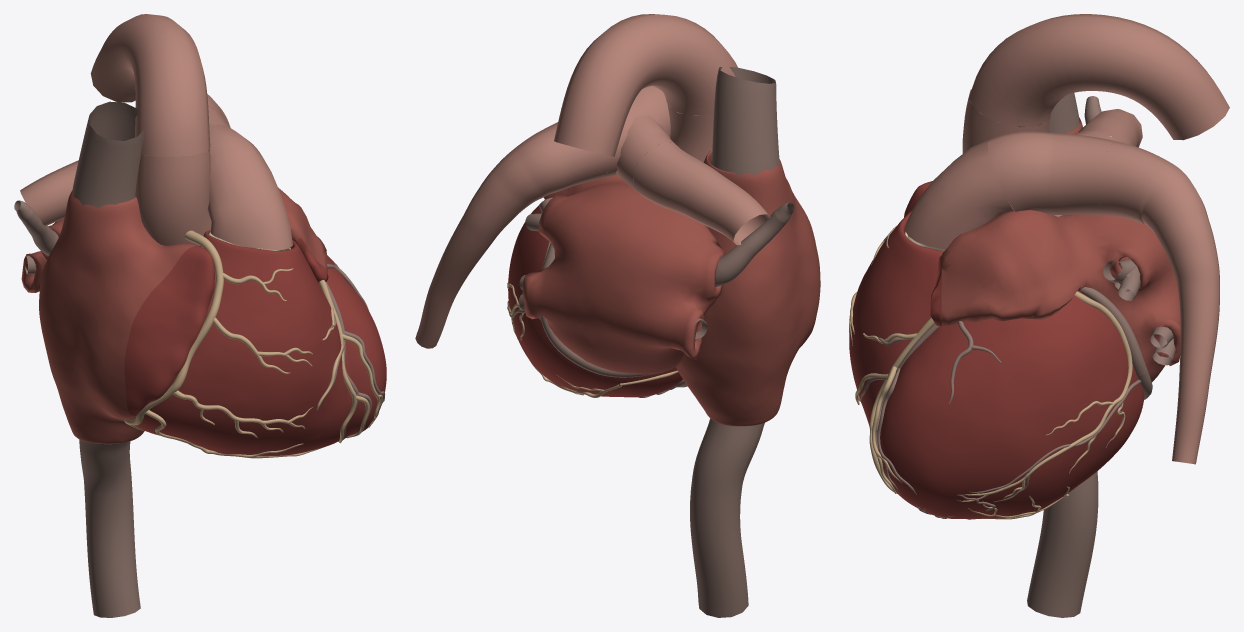
The model's file is heart-detail.glb.
3 renders of one model, left to right at view 1: azimuth 30°, elevation 25°; view 2: azimuth 150°, elevation 25°; view 3: azimuth 270°, elevation 25°, orthographic. The views are drawn at different scales.
Visible parts, largest first — view 1: heart, atrium_r, aorta, vena_cava_inferior, pulmonary_trunk, vena_cava_superior, coronary_r, atrium_l, pulmonary_artery_r, coronary_lad, pulmonary_vein_r, cardiac_vein_great; view 2: atrium_l, atrium_r, aorta, pulmonary_artery_l, vena_cava_inferior, pulmonary_artery_r, vena_cava_superior, ventricle_l, pulmonary_trunk, pulmonary_vein_r, coronary_sinus; view 3: ventricle_l, atrium_l, aorta, heart, pulmonary_artery_l, pulmonary_trunk, vena_cava_inferior, cardiac_vein_great, coronary_circumflex, coronary_lad, pulmonary_vein_l, pulmonary_artery_r (+2 smaller).
Boxes of the visible parts, x1=… form: heart: x1=124, y1=238, x2=386, y2=456; atrium_r: x1=39, y1=190, x2=198, y2=444; aorta: x1=90, y1=14, x2=211, y2=245; vena_cava_inferior: x1=79, y1=439, x2=140, y2=617; pulmonary_trunk: x1=198, y1=106, x2=292, y2=249; vena_cava_superior: x1=72, y1=101, x2=144, y2=207; coronary_r: x1=124, y1=230, x2=324, y2=458; atrium_l: x1=21, y1=187, x2=327, y2=292; pulmonary_artery_r: x1=20, y1=160, x2=78, y2=225; coronary_lad: x1=316, y1=280, x2=382, y2=443; pulmonary_vein_r: x1=14, y1=200, x2=58, y2=276; cardiac_vein_great: x1=319, y1=263, x2=385, y2=439; atrium_l: x1=522, y1=174, x2=724, y2=374; atrium_r: x1=676, y1=150, x2=820, y2=426; aorta: x1=554, y1=14, x2=737, y2=162; pulmonary_artery_l: x1=415, y1=122, x2=611, y2=348; vena_cava_inferior: x1=690, y1=418, x2=764, y2=617; pulmonary_artery_r: x1=633, y1=142, x2=770, y2=245; vena_cava_superior: x1=711, y1=66, x2=779, y2=176; ventricle_l: x1=508, y1=200, x2=682, y2=397; pulmonary_trunk: x1=600, y1=85, x2=697, y2=190; pulmonary_vein_r: x1=693, y1=202, x2=794, y2=338; coronary_sinus: x1=540, y1=316, x2=651, y2=377; ventricle_l: x1=941, y1=291, x2=1144, y2=518; atrium_l: x1=941, y1=209, x2=1180, y2=381; aorta: x1=962, y1=14, x2=1229, y2=216; heart: x1=849, y1=181, x2=941, y2=516; pulmonary_artery_l: x1=1098, y1=141, x2=1219, y2=464; pulmonary_trunk: x1=904, y1=130, x2=1116, y2=249; vena_cava_inferior: x1=1027, y1=471, x2=1098, y2=617; cardiac_vein_great: x1=860, y1=287, x2=1146, y2=495; coronary_circumflex: x1=957, y1=291, x2=1132, y2=501; coronary_lad: x1=855, y1=317, x2=934, y2=493; pulmonary_vein_l: x1=1103, y1=259, x2=1175, y2=365; pulmonary_artery_r: x1=1078, y1=109, x2=1142, y2=147.
Bounding box in the file's own units: 0.135 × 0.2264 × 0.1243.
